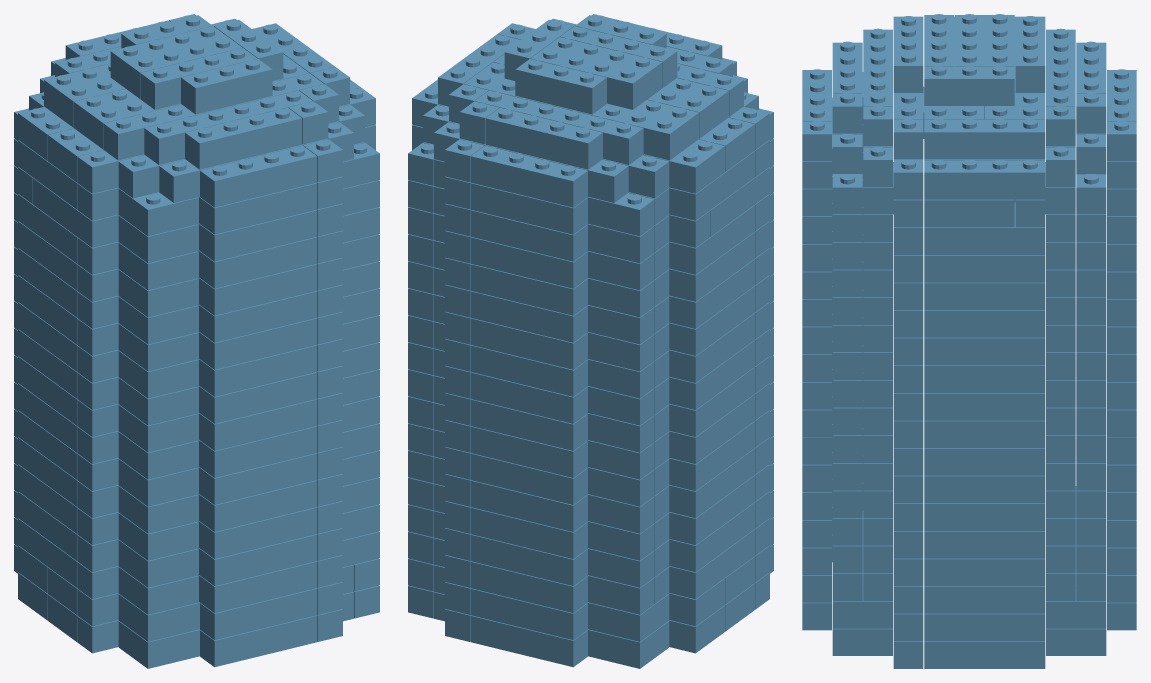
Rendered from 053_birdhouse_L3.glb.
3 views of the same model, side by side, from view 1: azimuth 30°, elevation 25°; view 2: azimuth 150°, elevation 25°; view 3: azimuth 270°, elevation 25° (orthographic). The views are drawn at different scales.
Bounding box in the file's own units: 10.98 × 20.13 × 10.98.
